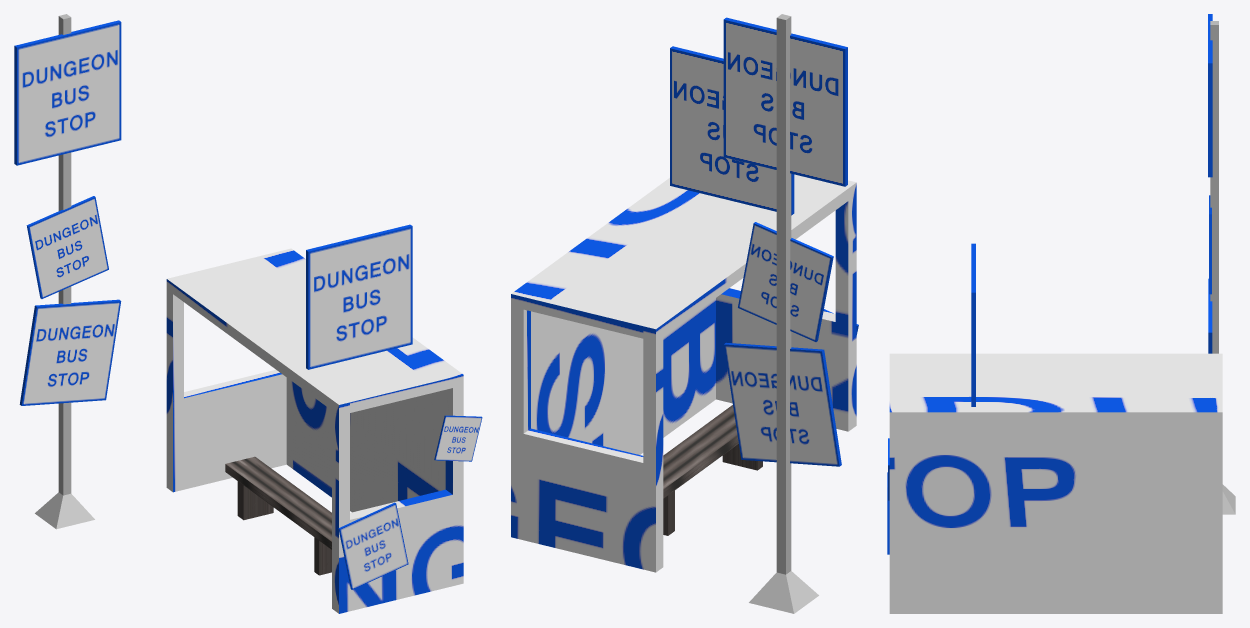
The model's file is busStop.fbx.
The picture shows the model from 3 angles, left to right: view 1: azimuth 30°, elevation 25°; view 2: azimuth 150°, elevation 25°; view 3: azimuth 270°, elevation 25°; orthographic projection. The views are drawn at different scales.
Visible parts, largest first — view 1: busstopRKD:pCube6, pCube5, pCube8, pCube10, pCube9, pCube7, pCube11, pCube4, pCube12; view 2: busstopRKD:pCube6, pCube5, pCube10, pCube4, pCube8, pCube9, pCube7; view 3: busstopRKD:pCube6, pCube4, pCube8, pCube5.
Part boxes in pixels (x1,y1,x2,y2): busstopRKD:pCube6: (166,248,463,613); pCube5: (14,20,121,165); pCube8: (306,224,412,369); pCube10: (19,299,121,405); pCube9: (26,196,108,298); pCube7: (225,456,331,575); pCube11: (338,502,408,589); pCube4: (35,14,94,529); pCube12: (434,415,482,461); busstopRKD:pCube6: (511,174,856,572); pCube5: (723,17,847,186); pCube10: (723,342,841,466); pCube4: (749,14,818,613); pCube8: (670,46,794,215); pCube9: (738,222,833,341); pCube7: (663,405,762,535); busstopRKD:pCube6: (889,353,1222,613); pCube4: (1210,21,1235,514); pCube8: (971,243,975,406); pCube5: (1208,14,1212,177).
Size of the model in its own units: 19.61 by 31.62 by 20.44.
